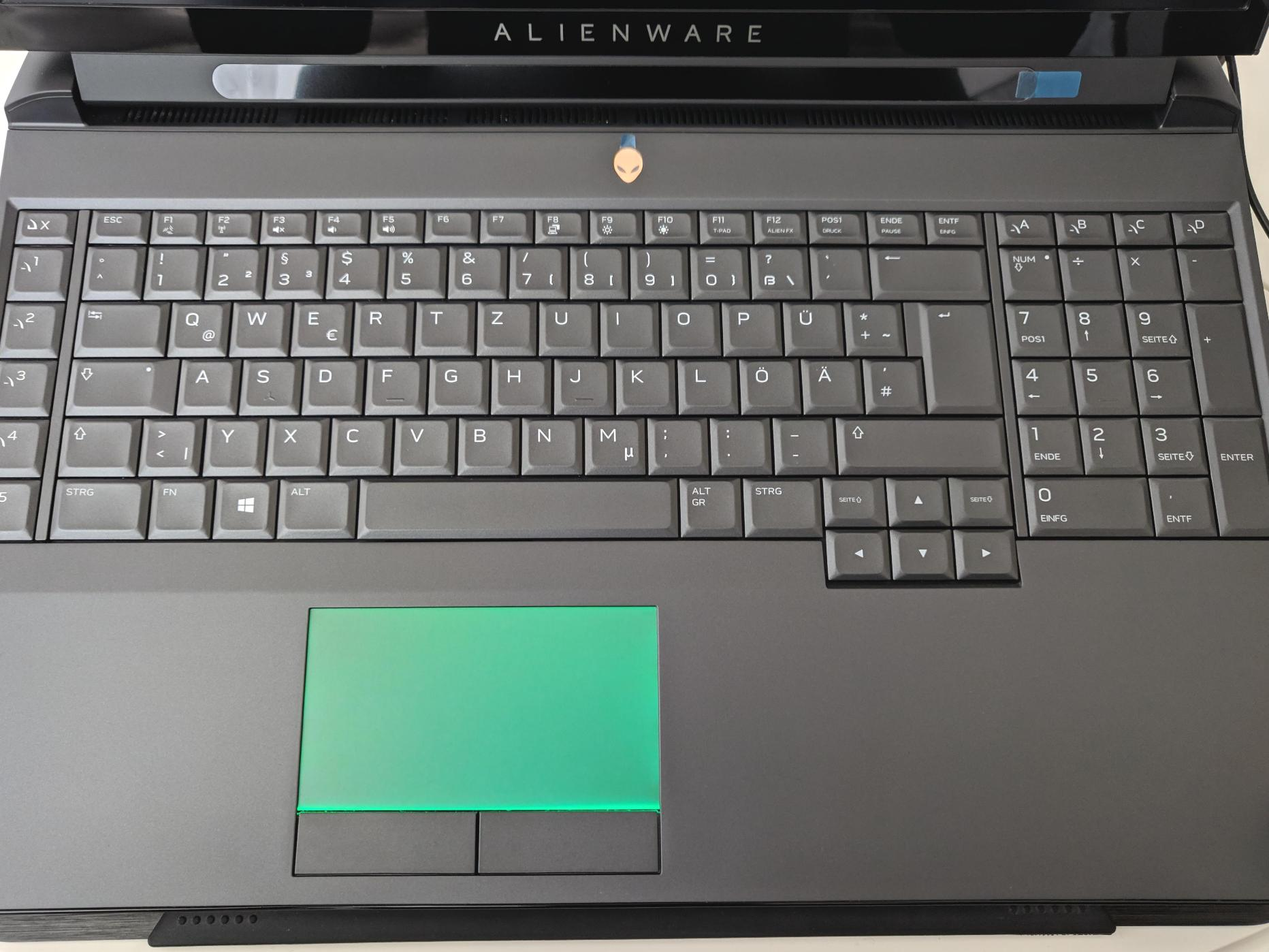0: (690, 245, 746, 298)
1: (144, 244, 201, 299)
2: (206, 244, 263, 297)
3: (266, 244, 323, 296)
4: (327, 244, 381, 296)
5: (388, 244, 442, 296)
6: (449, 244, 503, 296)
7: (510, 244, 563, 296)
8: (570, 244, 624, 298)
9: (630, 244, 685, 299)
a: (178, 358, 234, 411)
accent: (812, 246, 865, 300)
ae: (803, 357, 860, 413)
alt-left: (278, 477, 351, 535)
altgr-right: (679, 476, 737, 533)
b: (458, 415, 515, 471)
c: (330, 417, 387, 471)
caret: (83, 245, 138, 295)
comma: (648, 417, 703, 473)
d: (304, 358, 358, 410)
del: (870, 247, 984, 298)
e: (293, 300, 347, 351)
enter: (910, 300, 1000, 411)
f: (368, 358, 420, 409)
g: (429, 357, 483, 409)
h: (493, 358, 546, 409)
hash: (865, 358, 920, 413)
i: (602, 302, 653, 351)
j: (556, 358, 609, 413)
k: (617, 358, 671, 411)
keyboard: (1, 202, 1269, 589)
l: (679, 358, 733, 412)
less: (141, 416, 196, 472)
m: (585, 417, 643, 475)
minus: (774, 417, 830, 471)
n: (522, 416, 577, 473)
o: (661, 301, 716, 353)
oe: (739, 358, 797, 412)
p: (722, 300, 777, 353)
plus: (844, 299, 900, 355)
point: (711, 417, 765, 472)
q: (167, 300, 226, 353)
r: (355, 300, 408, 351)
s: (241, 358, 295, 411)
shift-left: (59, 418, 131, 471)
shift-lock: (65, 358, 179, 414)
shift-right: (835, 417, 1005, 472)
space: (359, 477, 673, 538)
ss: (750, 246, 804, 298)
strg-left: (47, 479, 146, 537)
strg-right: (747, 480, 824, 538)
t: (417, 300, 469, 349)
tab: (76, 302, 161, 349)
u: (539, 301, 594, 353)
ue: (782, 300, 839, 356)
v: (396, 417, 449, 470)
w: (231, 300, 287, 353)
x: (270, 417, 321, 469)
y: (204, 417, 259, 470)
z: (479, 300, 531, 351)
